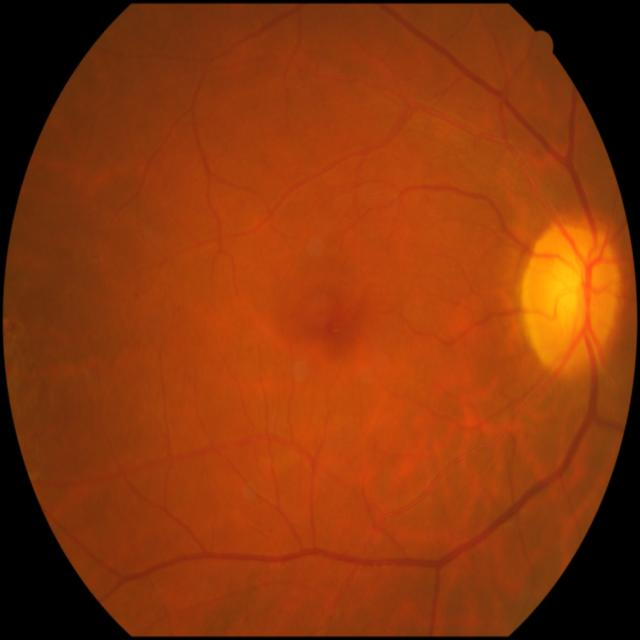OC: (543, 254, 593, 332)
OD: (522, 222, 622, 373)
